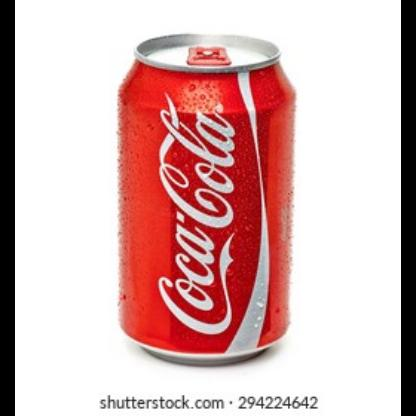Tin_Can: (113, 30, 306, 372)
